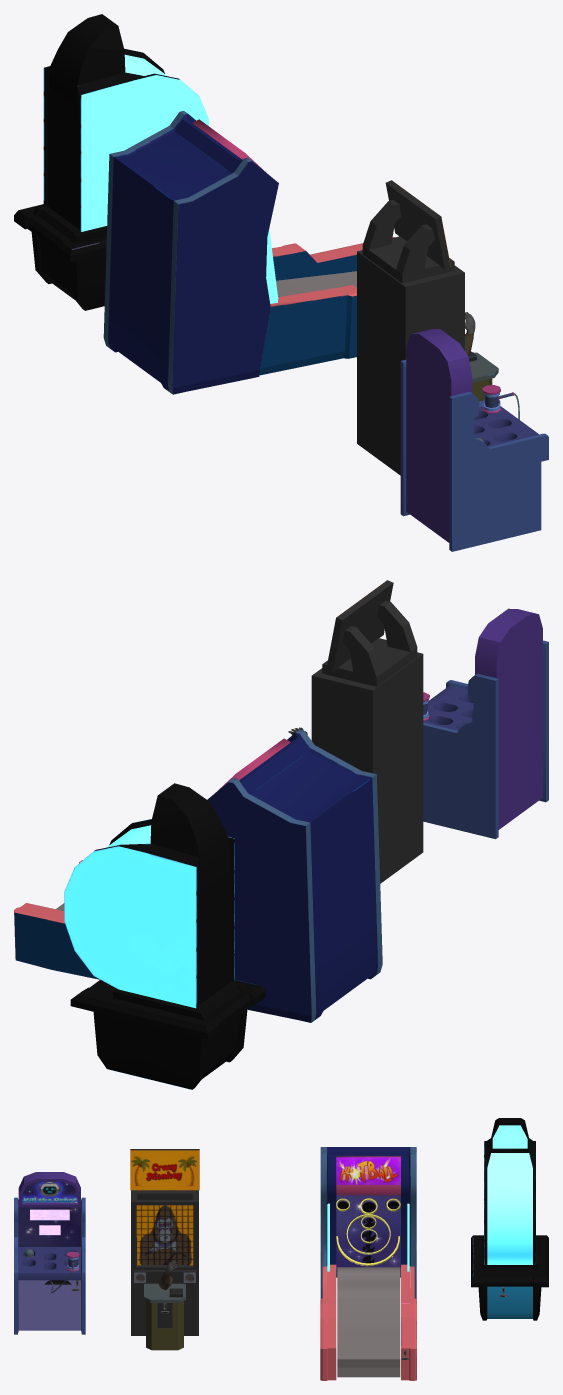
File: arcade_asset.fbx
The picture shows the model from 3 angles, top to bottom: view 1: azimuth 30°, elevation 25°; view 2: azimuth 150°, elevation 25°; view 3: azimuth 270°, elevation 25°; orthographic projection. The views are drawn at different scales.
Visible parts, largest first — view 1: Cylinder.011, Cylinder.007, Cube.015, Cube.011; view 2: Cylinder.007, Cylinder.011, Cube.015, Cube.011; view 3: Cylinder.011, Cube.011, Cylinder.007, Cube.015.
Boxes of the visible parts, bbox=[...] form: Cylinder.011: bbox=[103, 111, 394, 394]; Cylinder.007: bbox=[14, 14, 208, 310]; Cube.015: bbox=[400, 329, 548, 551]; Cube.011: bbox=[357, 180, 498, 475]; Cylinder.007: bbox=[64, 783, 265, 1089]; Cylinder.011: bbox=[14, 729, 382, 1022]; Cube.015: bbox=[423, 608, 548, 839]; Cube.011: bbox=[311, 580, 423, 883]; Cylinder.011: bbox=[320, 1147, 416, 1380]; Cube.011: bbox=[130, 1149, 199, 1350]; Cylinder.007: bbox=[471, 1118, 548, 1320]; Cube.015: bbox=[14, 1172, 85, 1334].
Size of the model in its own units: 375 by 331 by 861.
